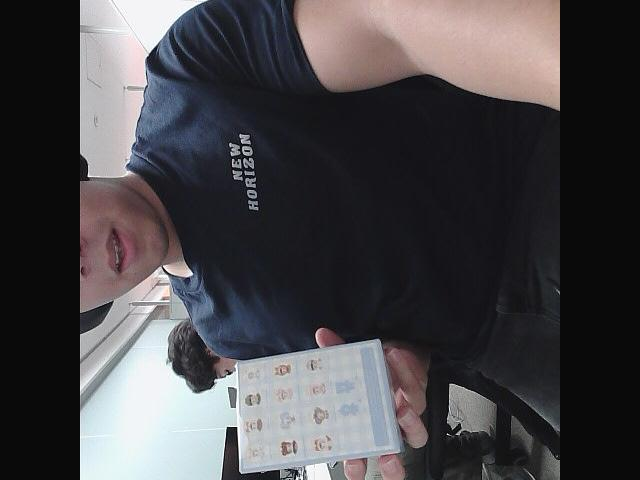Blind_box: (232, 329, 406, 475)
